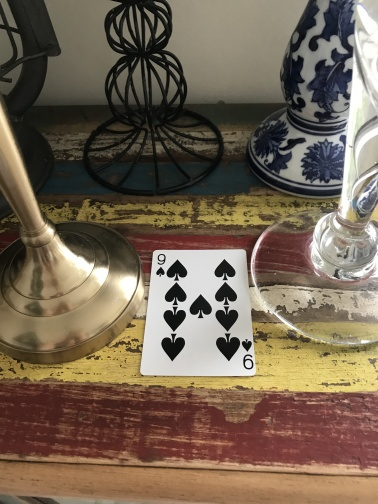nine: (138, 249, 257, 378)
